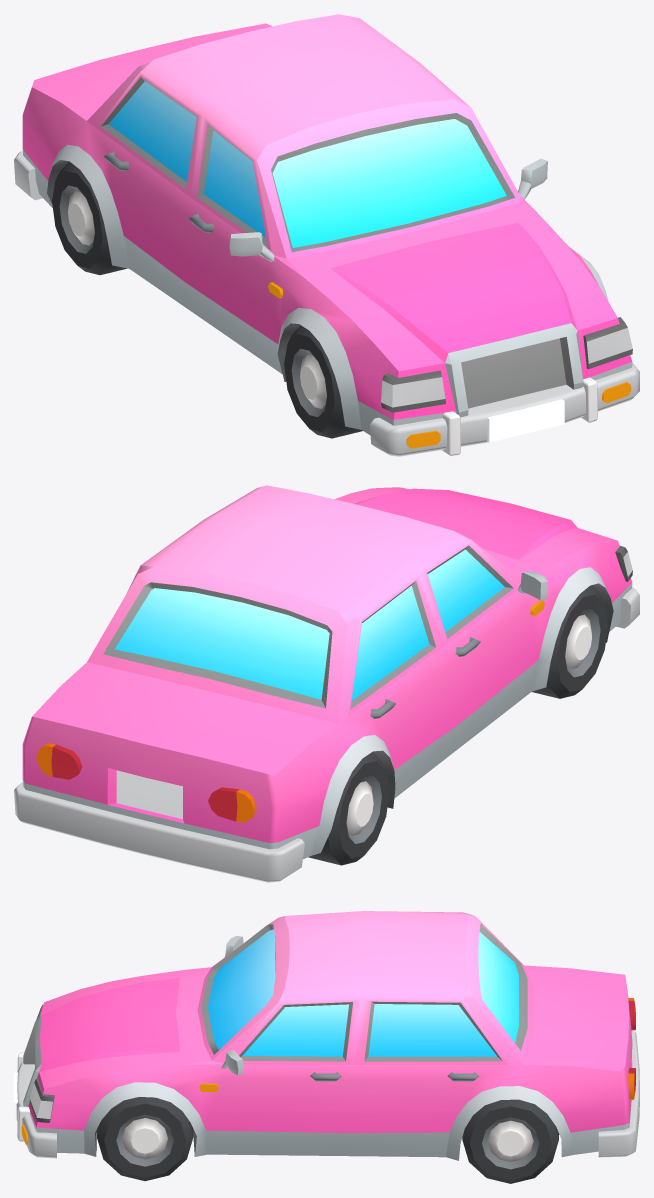
The model's file is city2-car-25.glb.
3 views of the same model, one above another, from view 1: azimuth 30°, elevation 25°; view 2: azimuth 150°, elevation 25°; view 3: azimuth 270°, elevation 25° (orthographic). The views are drawn at different scales.
Visible parts, largest first — view 1: Car_25, Wheel_265, Wheel_266; view 2: Car_25, Wheel_266, Wheel_265; view 3: Car_25, Wheel_267, Wheel_268.
Boxes of the visible parts, x1=… form: Car_25: x1=14, y1=14, x2=639, y2=456; Wheel_265: x1=284, y1=325, x2=362, y2=438; Wheel_266: x1=52, y1=161, x2=126, y2=275; Car_25: x1=14, y1=485, x2=639, y2=882; Wheel_266: x1=308, y1=752, x2=389, y2=865; Wheel_265: x1=532, y1=585, x2=607, y2=698; Car_25: x1=14, y1=911, x2=639, y2=1160; Wheel_267: x1=97, y1=1097, x2=193, y2=1181; Wheel_268: x1=462, y1=1099, x2=558, y2=1183.
Size of the model in its own units: 2.62 by 1.81 by 5.5.
Materials: 2 (2 with a texture image).
